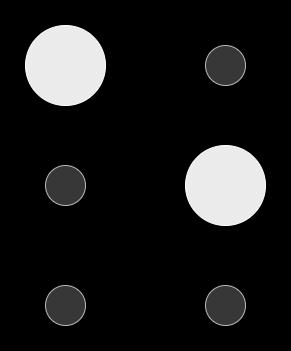E: (18, 21, 272, 337)
